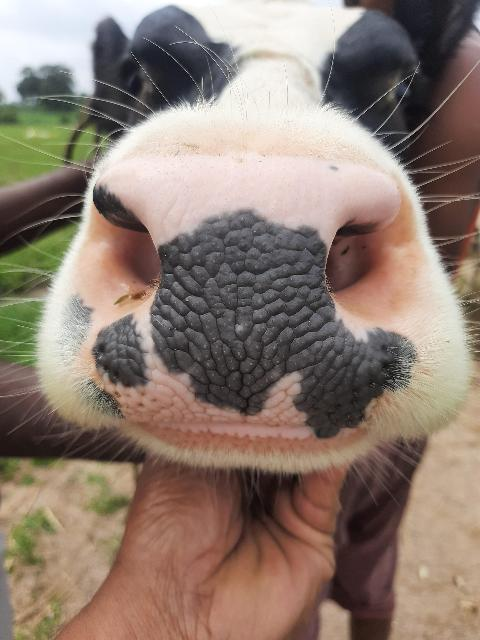Muzzle: (116, 166, 368, 432)
